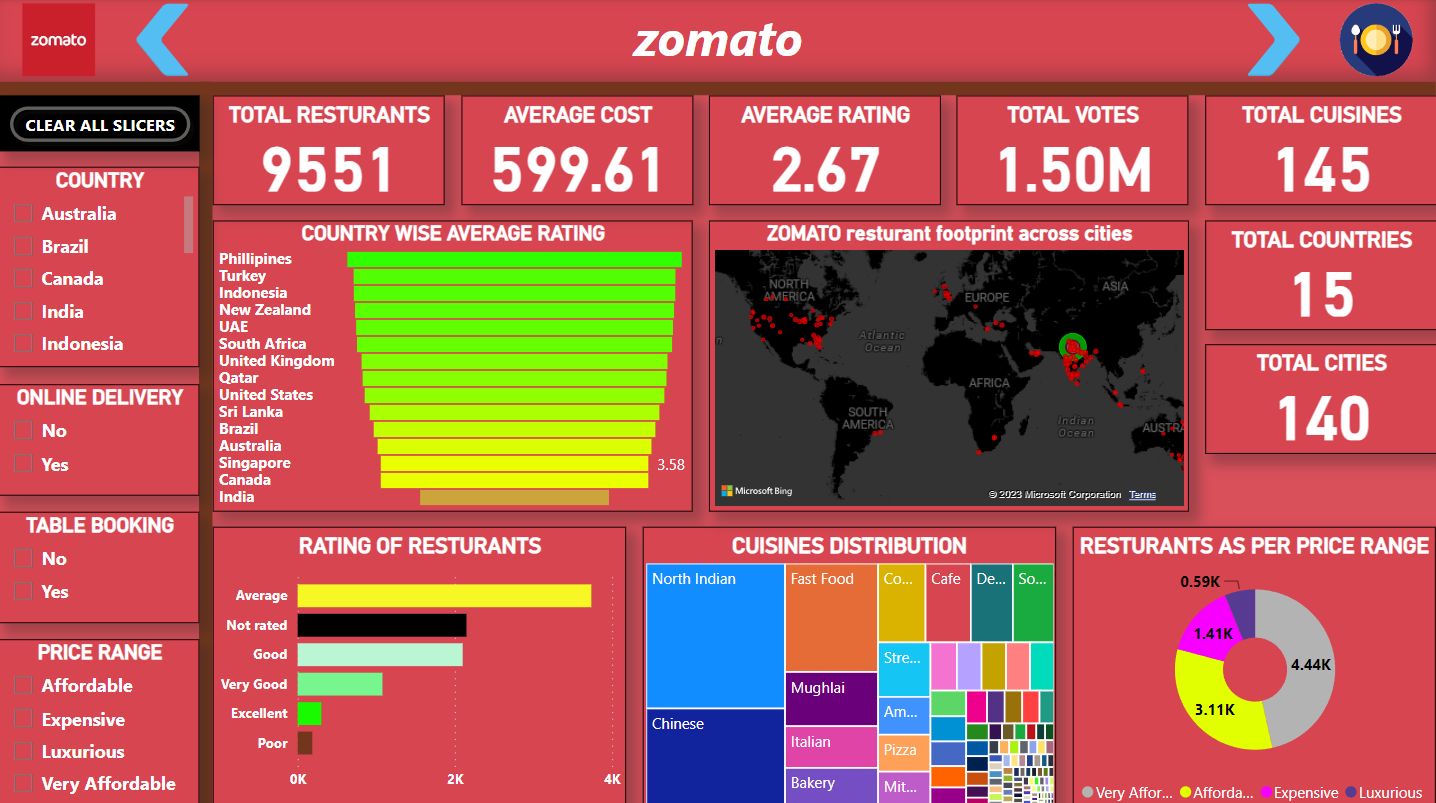

The page's visual inventory and layout, read from the dashboard file:
{"tool":"powerbi","page":{"name":"Zomato Dashboard","canvas":[1280,720],"ordinal":0},"visuals":[{"type":"textbox","box":[0,0,1281.1,74.6],"z":0},{"type":"funnel","title":"COUNTRY WISE AVERAGE RATING","fields":{"Category":["Country Master.Country"],"Y":["Measures Table.AVERAGE RATING"]},"box":[190.6,197.8,426.9,259.3],"z":1000},{"type":"card","title":"TOTAL RESTURANTS","fields":{"Values":["Measures Table.Total Resturants"]},"box":[190.6,86.8,206.2,97.7],"z":2000},{"type":"shape","box":[178.5,74.8,12.1,645.2],"z":3000},{"type":"shape","box":[0,74.8,1279.6,12.1],"z":4000},{"type":"slicer","title":"COUNTRY","fields":{"Values":["Country Master.Country"]},"box":[0,150.8,178.5,178.5],"z":5000},{"type":"card","title":"AVERAGE COST","fields":{"Values":["Measures Table.AVERAGE COST"]},"box":[411.3,86.8,206.2,97.7],"z":6000},{"type":"card","title":"AVERAGE RATING","fields":{"Values":["Measures Table.AVERAGE RATING"]},"box":[632,86.8,206.2,97.7],"z":7000},{"type":"card","title":"TOTAL CUISINES","fields":{"Values":["Measures Table.TOTAL CUISINES"]},"box":[1073.4,86.8,206.2,97.7],"z":8000},{"type":"card","title":"TOTAL COUNTRIES","fields":{"Values":["Measures Table.TOTAL COUNTRIES"]},"box":[1073.4,197.8,206.2,97.7],"z":9000},{"type":"slicer","title":"ONLINE DELIVERY","fields":{"Values":["KPIs.Has Online delivery"]},"box":[0,343.7,178.5,98.9],"z":10000},{"type":"slicer","title":"TABLE BOOKING","fields":{"Values":["KPIs.Has Table booking"]},"box":[0,457.1,178.5,98.9],"z":11000},{"type":"slicer","title":"PRICE RANGE","fields":{"Values":["KPIs.Price range Type"]},"box":[0,570.5,178.5,149.5],"z":12000},{"type":"actionButton","box":[0,86.8,178.5,49.4],"z":13000},{"type":"card","title":"TOTAL VOTES","fields":{"Values":["Sum(KPIs.Votes)"]},"box":[852.7,86.8,206.2,97.7],"z":14000},{"type":"barChart","title":"RATING OF RESTURANTS","fields":{"Category":["KPIs.Rating text"],"Y":["CountNonNull(ZOMATO ALL COUNTRIES.Restaurant ID)"]},"box":[190.6,470.4,367.8,249.6],"z":15000},{"type":"card","title":"TOTAL CITIES","fields":{"Values":["Count(ZOMATO ALL COUNTRIES.City)"]},"box":[1073.4,308.7,206.2,97.7],"z":16000},{"type":"treemap","title":"CUISINES DISTRIBUTION","fields":{"Group":["Cuisines.Cuisines"],"Values":["Count(Cuisines.Restaurant ID)"]},"box":[573.5,470.4,367.8,249.6],"z":17000},{"type":"image","box":[0,0,106.1,74.8],"z":18000},{"type":"image","box":[1173.5,0,106.1,74.8],"z":19000},{"type":"map","title":"ZOMATO resturant footprint across  cities","fields":{"Category":["ZOMATO ALL COUNTRIES.City"],"Size":["CountNonNull(ZOMATO ALL COUNTRIES.Restaurant ID)"]},"box":[632,197.8,426.9,259.3],"z":20000},{"type":"donutChart","title":"RESTURANTS AS PER PRICE RANGE","fields":{"Y":["CountNonNull(ZOMATO ALL COUNTRIES.Restaurant ID)"],"Category":["KPIs.Price range Type"]},"box":[956.4,470.4,323.2,249.6],"z":21000},{"type":"image","box":[106.1,0,78.4,74.8],"z":22000},{"type":"image","box":[1096.3,0,77.2,74.8],"z":23000}]}

Visuals, with their boxes in screenshot pixels (x1, y1, x2, y2), scaled from the page's 1280x720 canvas onto the 1436x803 screenshot:
textbox: 0, 0, 1435, 83
"COUNTRY WISE AVERAGE RATING" funnel: 214, 221, 693, 510
"TOTAL RESTURANTS" card: 214, 97, 445, 206
shape: 200, 83, 214, 802
shape: 0, 83, 1435, 97
"COUNTRY" slicer: 0, 168, 200, 367
"AVERAGE COST" card: 461, 97, 693, 206
"AVERAGE RATING" card: 709, 97, 940, 206
"TOTAL CUISINES" card: 1204, 97, 1435, 206
"TOTAL COUNTRIES" card: 1204, 221, 1435, 330
"ONLINE DELIVERY" slicer: 0, 383, 200, 494
"TABLE BOOKING" slicer: 0, 510, 200, 620
"PRICE RANGE" slicer: 0, 636, 200, 802
actionButton: 0, 97, 200, 152
"TOTAL VOTES" card: 957, 97, 1188, 206
"RATING OF RESTURANTS" barChart: 214, 525, 626, 802
"TOTAL CITIES" card: 1204, 344, 1435, 453
"CUISINES DISTRIBUTION" treemap: 643, 525, 1056, 802
image: 0, 0, 119, 83
image: 1317, 0, 1435, 83
"ZOMATO resturant footprint across  cities" map: 709, 221, 1188, 510
"RESTURANTS AS PER PRICE RANGE" donutChart: 1073, 525, 1435, 802
image: 119, 0, 207, 83
image: 1230, 0, 1317, 83
